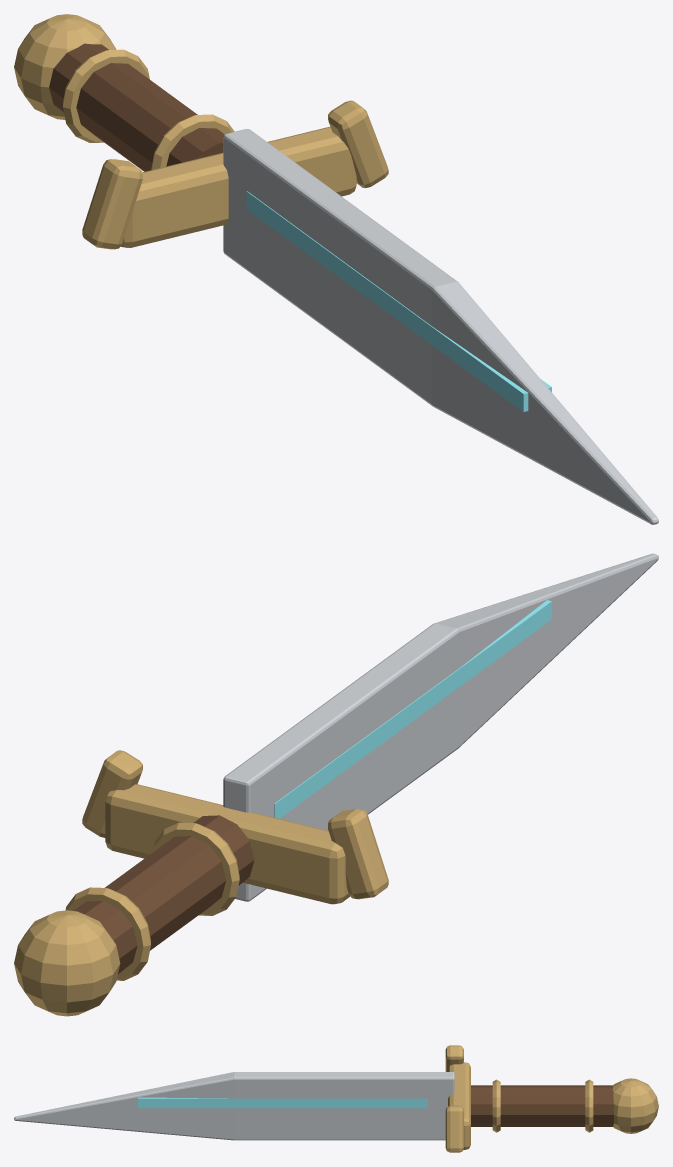
File: Lame_Courte.fbx
The picture shows the model from 3 angles, top to bottom: view 1: azimuth 30°, elevation 25°; view 2: azimuth 150°, elevation 25°; view 3: azimuth 270°, elevation 25°; orthographic projection. The views are drawn at different scales.
Visible parts, largest first — view 1: Lame_Courte_Acier, Lame_Courte_Laiton, Lame_Courte_Cuir, Lame_Courte_Noyau; view 2: Lame_Courte_Acier, Lame_Courte_Laiton, Lame_Courte_Cuir, Lame_Courte_Noyau; view 3: Lame_Courte_Acier, Lame_Courte_Laiton, Lame_Courte_Cuir, Lame_Courte_Noyau.
Boxes of the visible parts, x1,y1,x2,y2 form: Lame_Courte_Acier: (223, 129, 658, 524); Lame_Courte_Laiton: (14, 14, 388, 249); Lame_Courte_Cuir: (49, 43, 224, 171); Lame_Courte_Noyau: (246, 191, 551, 411); Lame_Courte_Acier: (223, 553, 658, 901); Lame_Courte_Laiton: (14, 750, 388, 1016); Lame_Courte_Cuir: (73, 815, 254, 973); Lame_Courte_Noyau: (274, 594, 551, 818); Lame_Courte_Acier: (14, 1072, 454, 1140); Lame_Courte_Laiton: (445, 1045, 658, 1152); Lame_Courte_Cuir: (471, 1085, 613, 1126); Lame_Courte_Noyau: (138, 1097, 427, 1108).
Bounding box in the file's own units: 76.99 × 30 × 278.
